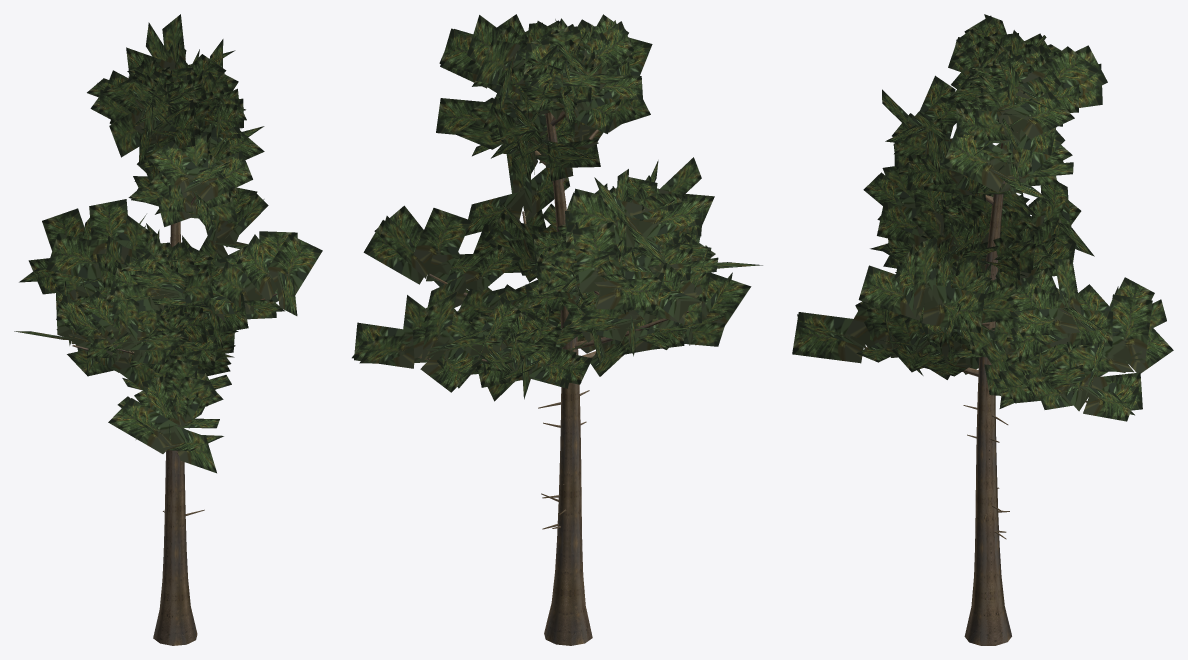
The model's file is Pine_B.gltf.
The picture shows the model from 3 angles, left to right: view 1: azimuth 30°, elevation 25°; view 2: azimuth 150°, elevation 25°; view 3: azimuth 270°, elevation 25°; orthographic projection. The views are drawn at different scales.
Parts seen in each view (by area): view 1: Pine_B; view 2: Pine_B; view 3: Pine_B.
Boxes of the visible parts, x1,y1,x2,y2 form: Pine_B: [14, 14, 322, 645]; Pine_B: [352, 14, 762, 645]; Pine_B: [792, 14, 1173, 645].
Bounding box in the file's own units: 8.21 × 15.89 × 8.98.
2 materials, 2 textured.
